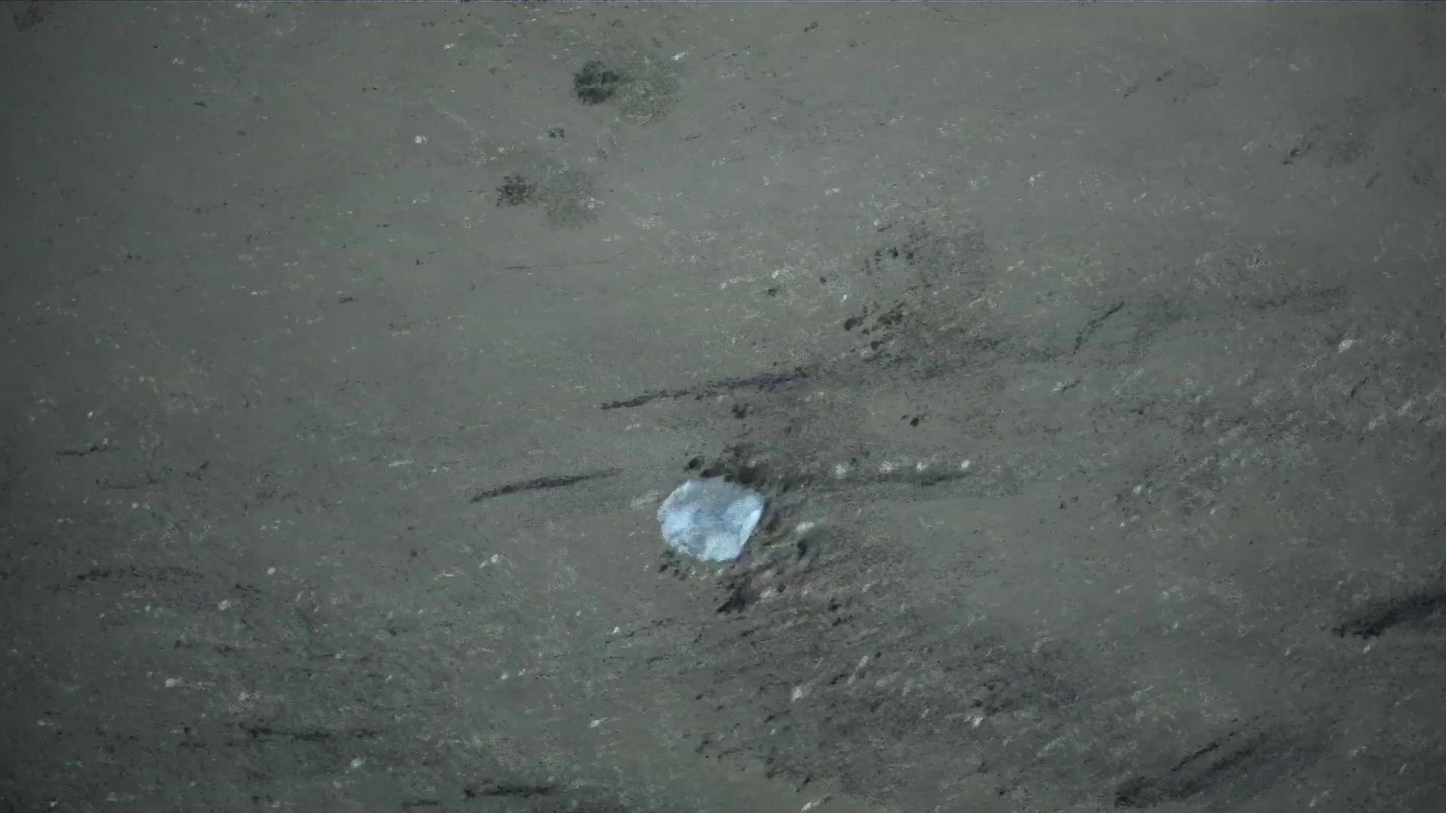Target: (650, 474, 773, 569)
